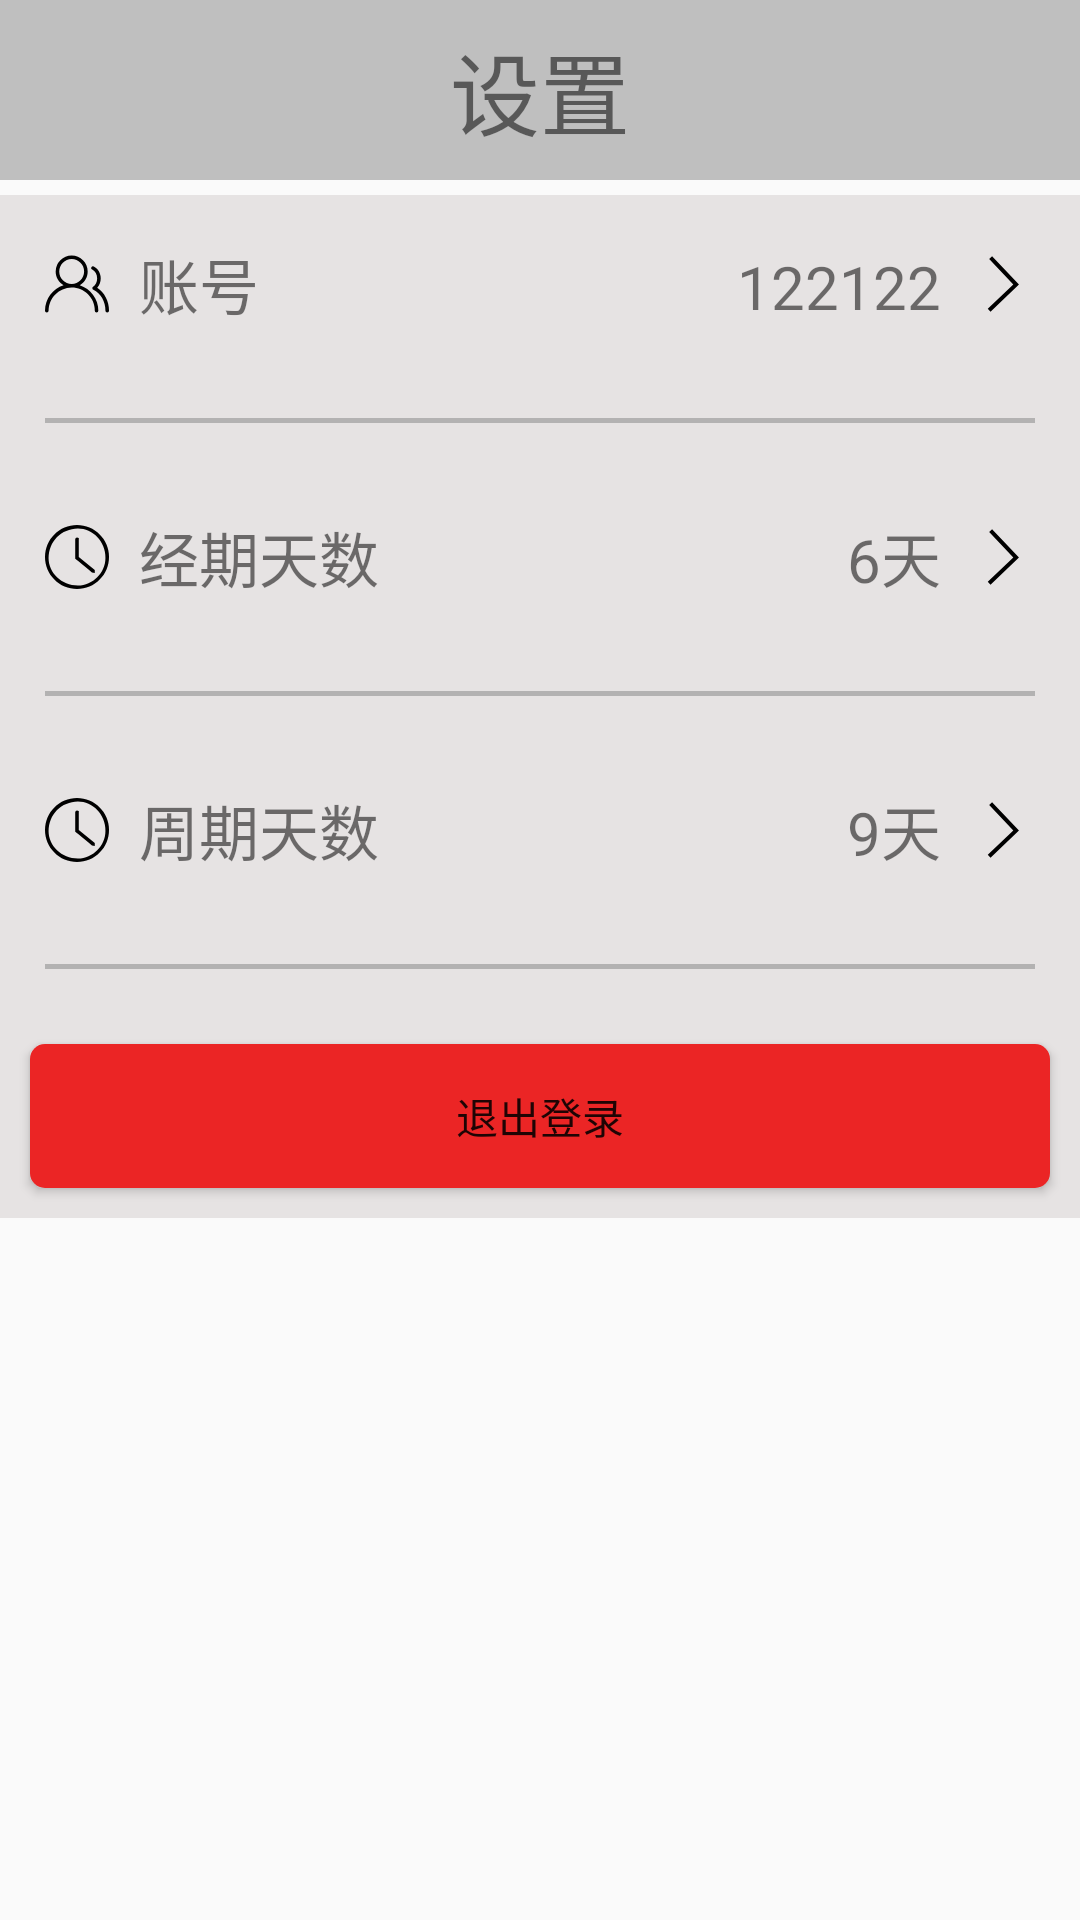

Point at icon controls on the screen. Image size 1080x1920, points as [x,y].
seting kuohao: [1003,284], [1003,557], [1003,830]
seting zhanghao: [77,284]
